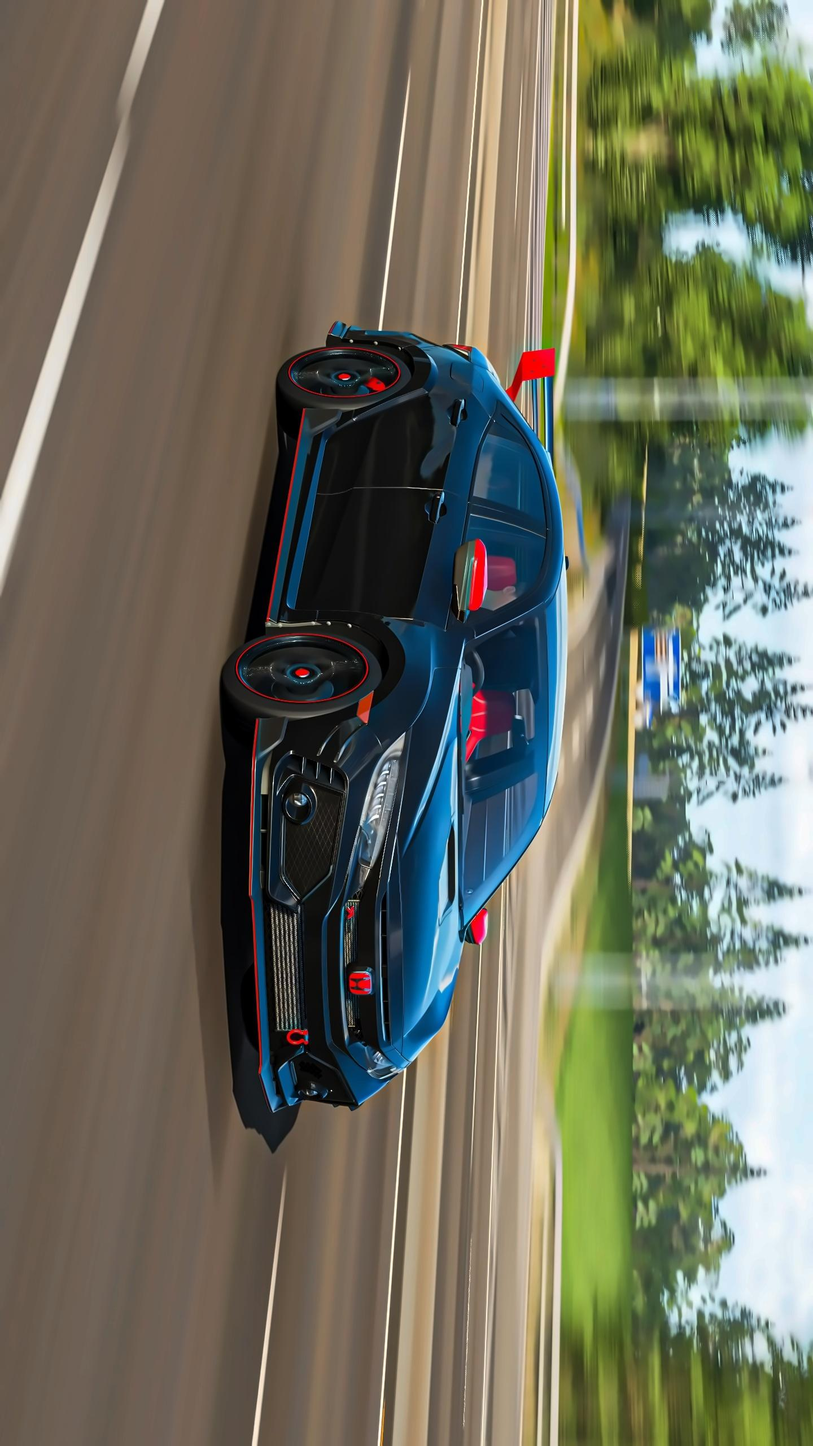Car hood: (393, 631, 469, 1088)
Driver-s door - -F-R-: (233, 486, 580, 640)
Fender - -F-R-: (319, 589, 469, 760)
Fender - -R-R-: (340, 328, 521, 420)
Front bumper: (236, 708, 372, 1129)
Headlight - -L-: (356, 1041, 408, 1099)
Headlight - -R-: (340, 732, 409, 898)
Passenger-s door - -R-R-: (257, 395, 638, 541)
Side bumper - -R-: (254, 403, 345, 633)
Side mirror - -L-: (464, 904, 495, 957)
Side mirror - -R-: (450, 534, 488, 619)
